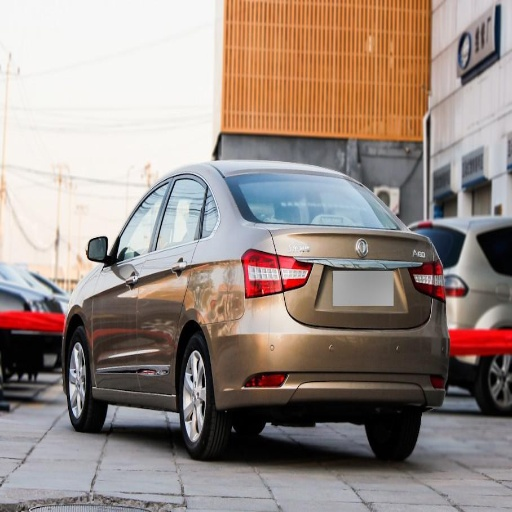back_bumper: (211, 295, 480, 408)
back_glass: (228, 171, 391, 224)
back_left_door: (140, 172, 210, 391)
tailgate: (267, 224, 433, 330)
